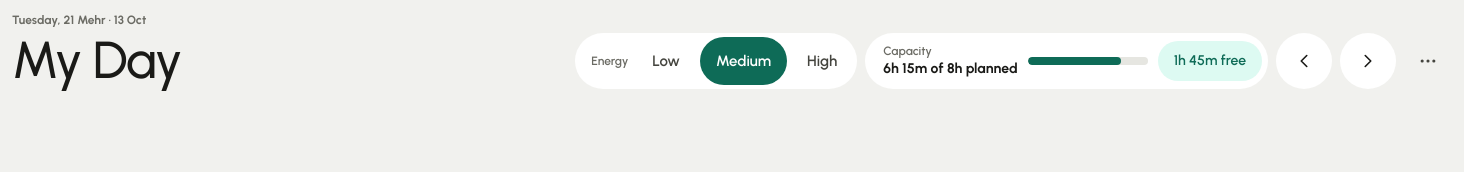
MyDayHeader › follows the day: the kicker and Today affordance change when the arrows are used
The width and height of the screenshot is (1464, 172).
Click the button named "Next day" at (1368, 61), box [1340,33,1396,89]
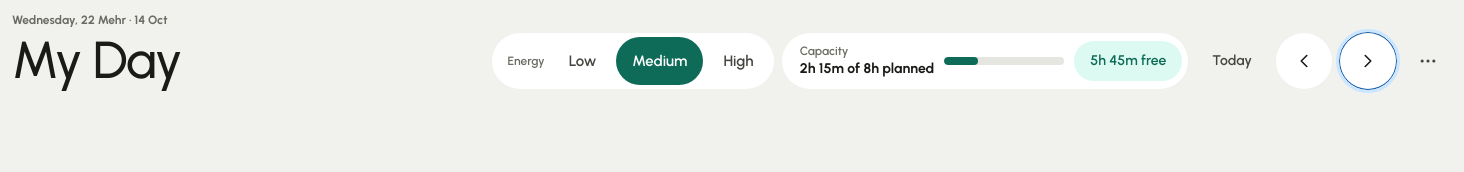
Check: the text "Wednesday, 22 Mehr · 14 Oct" is shown, box [12,13,168,27]
Check: the button "Today" is shown, box [1196,41,1268,81]
